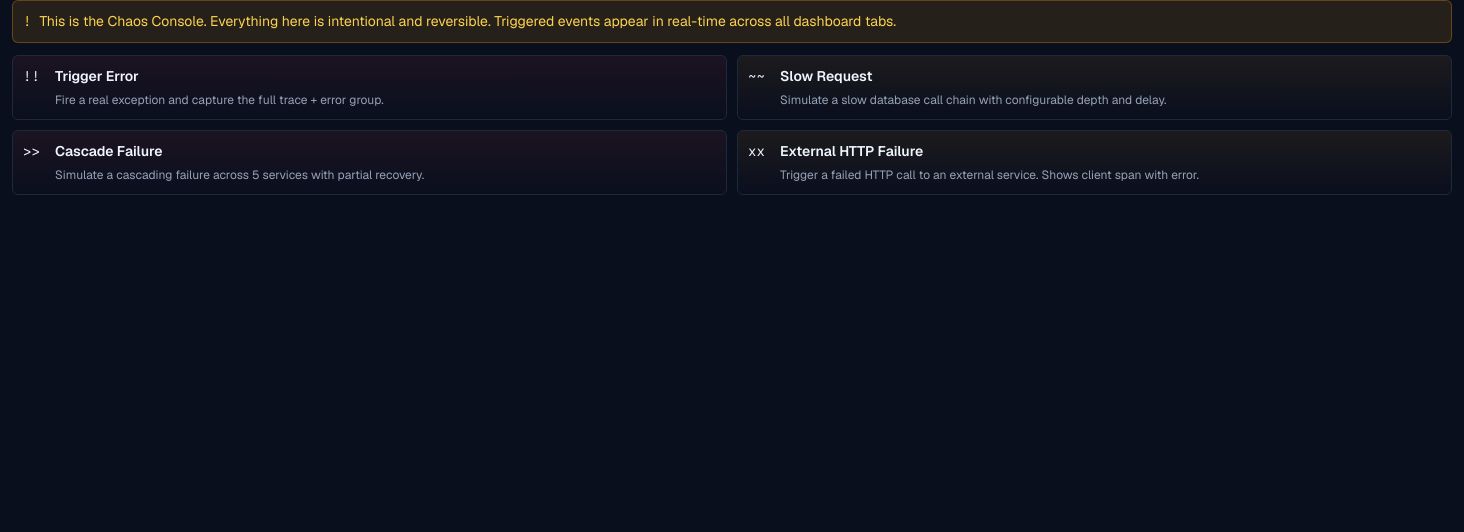
Test case: ChaosConsole › shows result after successful run
Click the text "Trigger Error": (97, 76) x1=55 y1=67 x2=139 y2=85
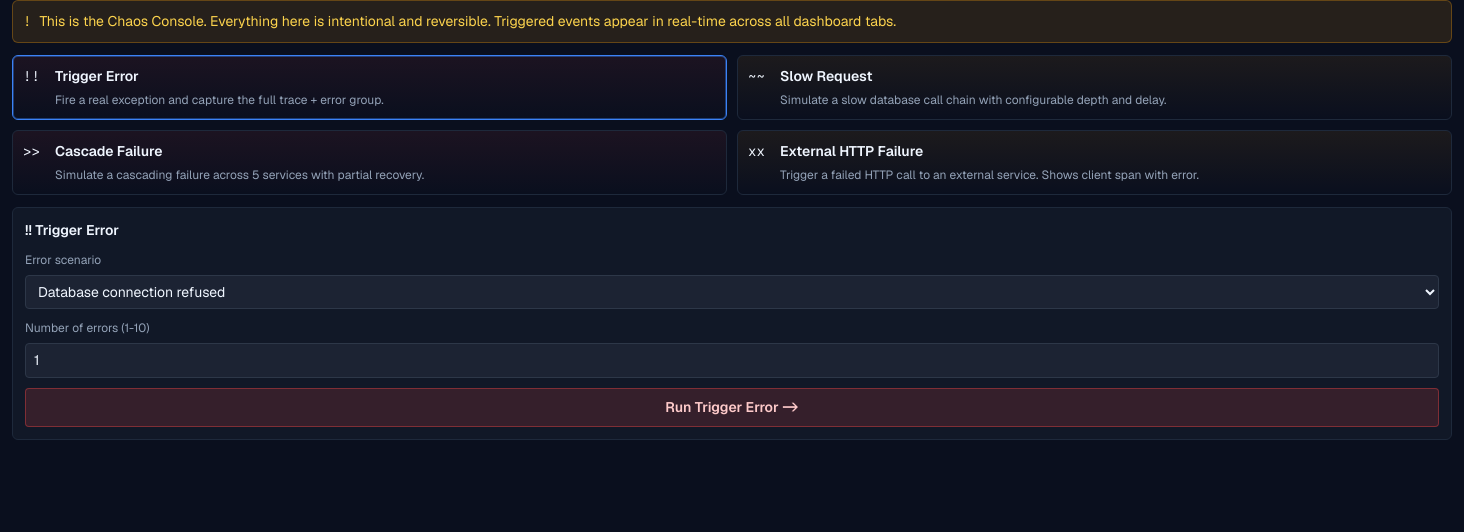
Click the button "Run Trigger Error ->": (732, 408) x1=25 y1=388 x2=1439 y2=427
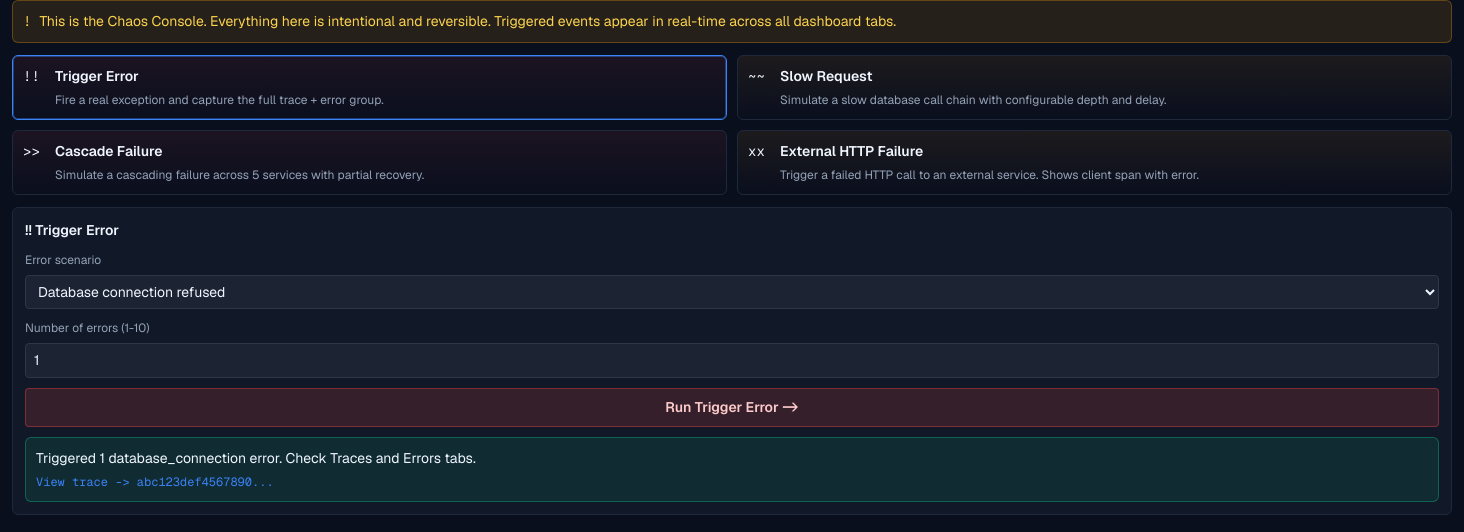
Result: the text "Triggered 1 database_connection error" is shown at x1=36 y1=449 x2=476 y2=467
